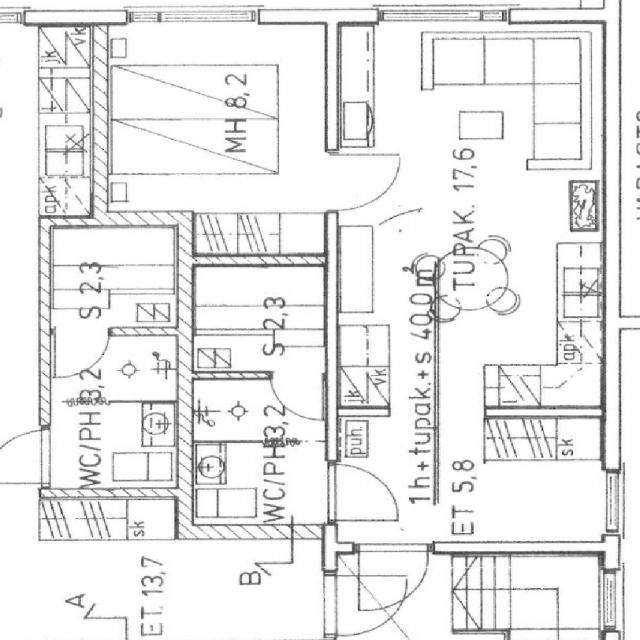door: (359, 541, 428, 613), (324, 465, 405, 522), (325, 155, 406, 210), (270, 372, 321, 421)
